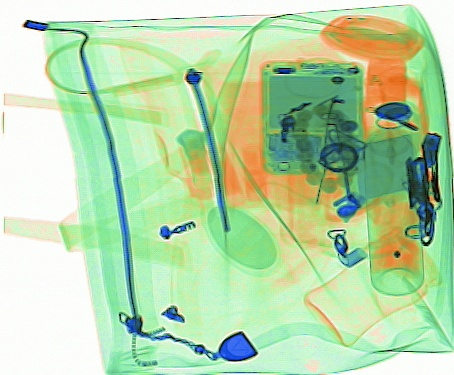pressure: (361, 121, 423, 296)
